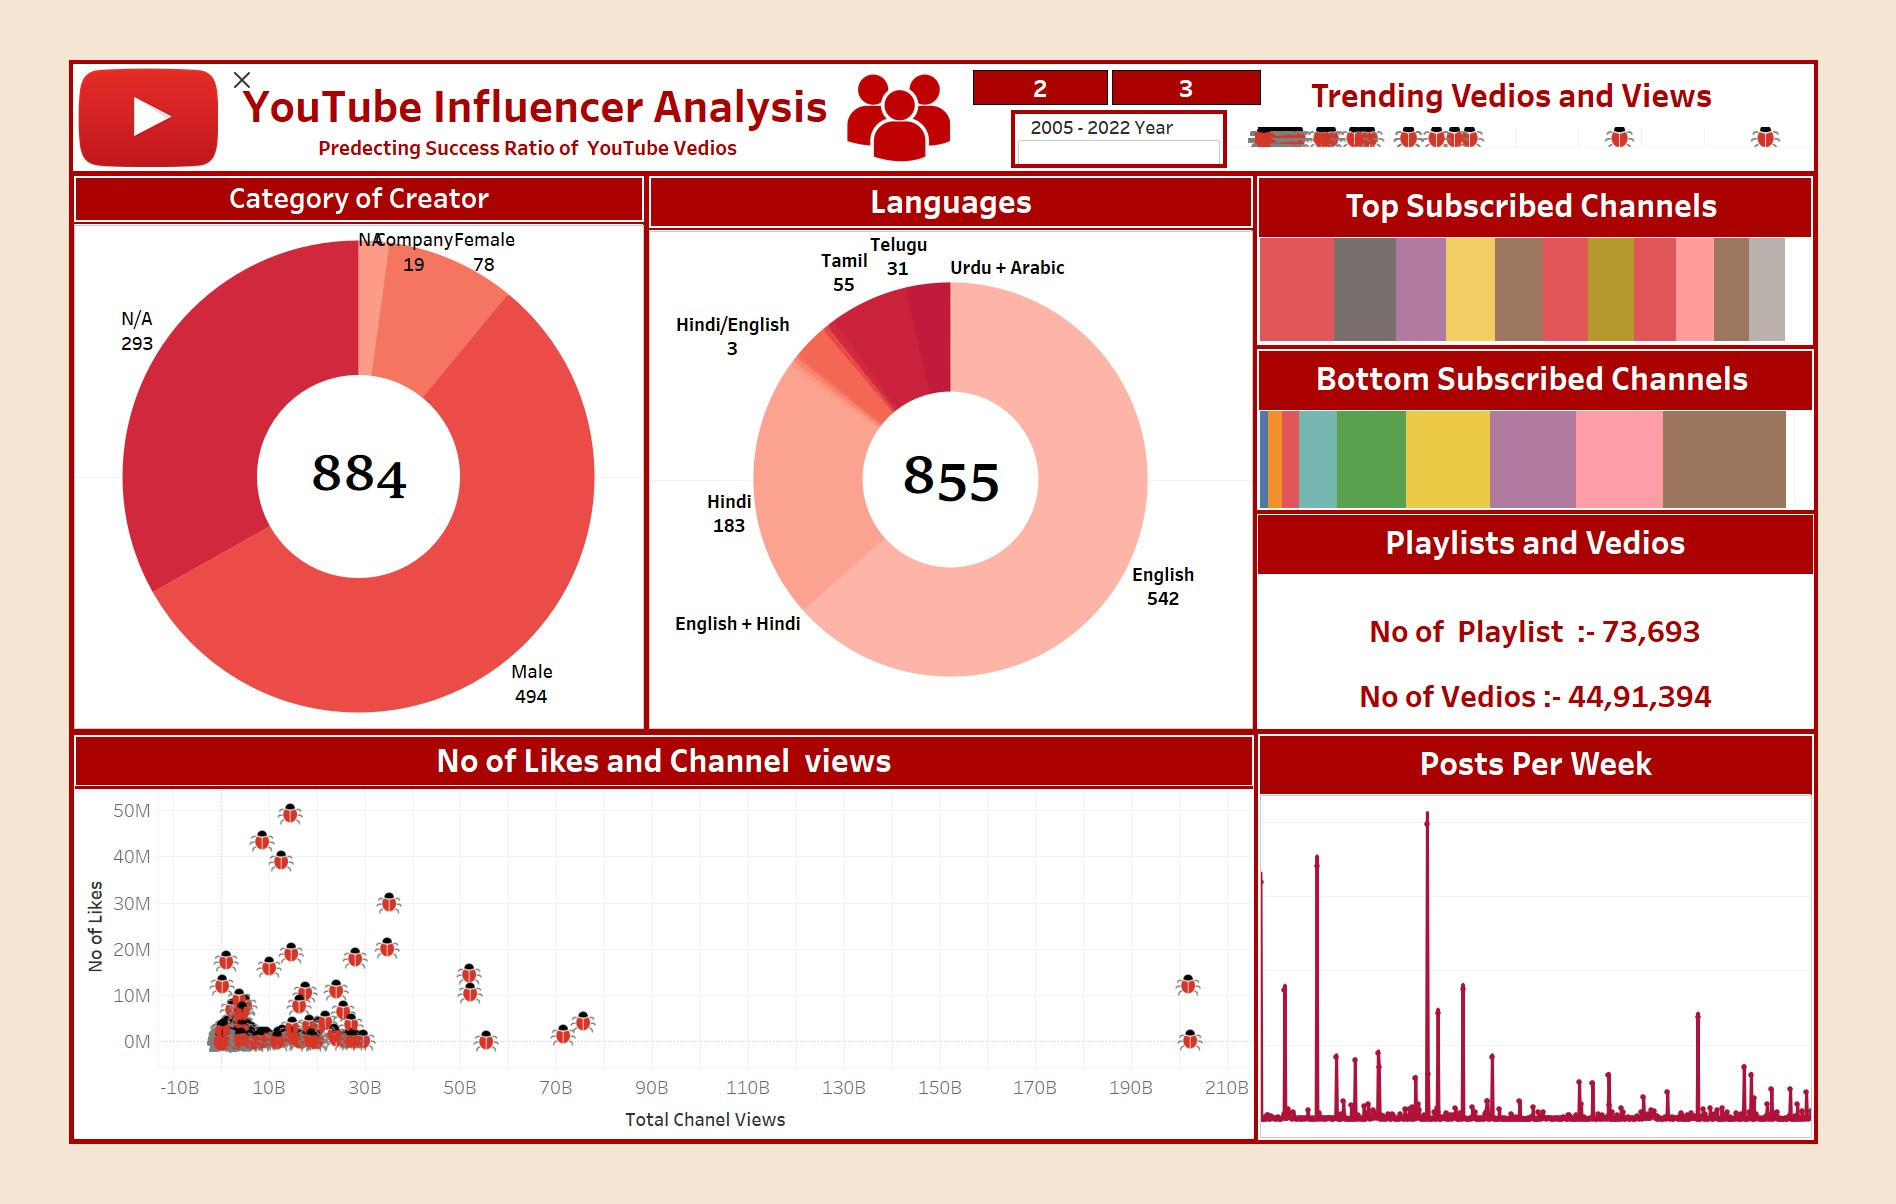

The dashboard page shown, as its layout file describes it:
{"tool":"tableau","page":{"name":"Dashboard 1","canvas":[1765,1100],"ordinal":2},"visuals":[{"type":"title","box":[8,8,1749,115]},{"type":"image","param":"Image/multiple-users-silhouette.png","box":[786,14,154,103]},{"type":"image","param":"Image/580b57fcd9996e24bc43c545.png","box":[17,16,152,99]},{"type":"dashboard-object","box":[169,16,24,24]},{"type":"worksheet","title":"Trending Vedios and Views ","mark":"Shape","cols":["Video Views"],"box":[1160,16,588,99]},{"type":"dashboard-object","box":[912,18,135,35]},{"type":"dashboard-object","box":[1051,18,149,35]},{"type":"filter","title":"Trending Vedios and Views ","param":"[federated.0cmghbw1i3nk9q184302f0gca3j3].[none:Date of Video Upload:nk]","box":[950,58,216,58]},{"type":"worksheet","title":"Category of Creator","mark":"Pie","rows":["Calculation_46161928186523662","Calculation_46161928186523662"],"box":[13,124,570,553]},{"type":"worksheet","title":"Languages","mark":"Pie","rows":["Calculation_46161928186523662","Calculation_46161928186523662"],"box":[588,124,604,553]},{"type":"worksheet","title":"Top Subscribed Channels ","mark":"Automatic","cols":["Total Channel Subcribers"],"box":[1196,124,556,169]},{"type":"worksheet","title":"Bottom Subscribed Channels ","mark":"Automatic","cols":["Total Channel Subcribers"],"box":[1196,297,557,161]},{"type":"worksheet","title":"Playlists and Vedios","mark":"Automatic","box":[1196,462,557,215]},{"type":"worksheet","title":"Posts Per Week","mark":"Line","rows":["Community Engagement (Posts per week)","Community Engagement (Posts per week)"],"cols":["Creator Name"],"box":[1197,682,556,406]},{"type":"worksheet","title":"No of Likes and Channel  views","mark":"Automatic","rows":["No of Likes"],"cols":["Total Chanel Views"],"box":[13,683,1180,404]}]}

Visuals, with their boxes in screenshot pixels (x1, y1, x2, y2), scaled from the page's 1765x1100 canvas onto the 1896x1204 screenshot:
title: bbox=[9, 9, 1887, 135]
image: bbox=[844, 15, 1010, 128]
image: bbox=[18, 18, 182, 126]
dashboard-object: bbox=[182, 18, 207, 44]
"Trending Vedios and Views " worksheet (Shape marks): bbox=[1246, 18, 1878, 126]
dashboard-object: bbox=[980, 20, 1125, 58]
dashboard-object: bbox=[1129, 20, 1289, 58]
"Trending Vedios and Views " filter: bbox=[1021, 63, 1253, 127]
"Category of Creator" worksheet (Pie marks): bbox=[14, 136, 626, 741]
"Languages" worksheet (Pie marks): bbox=[632, 136, 1280, 741]
"Top Subscribed Channels " worksheet: bbox=[1285, 136, 1882, 321]
"Bottom Subscribed Channels " worksheet: bbox=[1285, 325, 1883, 501]
"Playlists and Vedios" worksheet: bbox=[1285, 506, 1883, 741]
"Posts Per Week" worksheet (Line marks): bbox=[1286, 746, 1883, 1191]
"No of Likes and Channel  views" worksheet: bbox=[14, 748, 1282, 1190]
